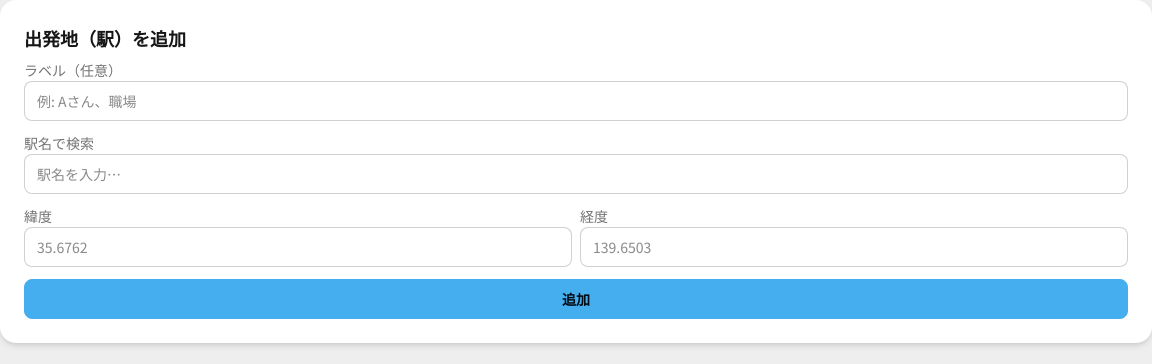
Test case: LocationForm › manual coordinate entry › should reset form after submission
Step 1. Type "自宅" into the field labelled "ラベル（任意）" → (576, 101), box [24, 81, 1128, 121]
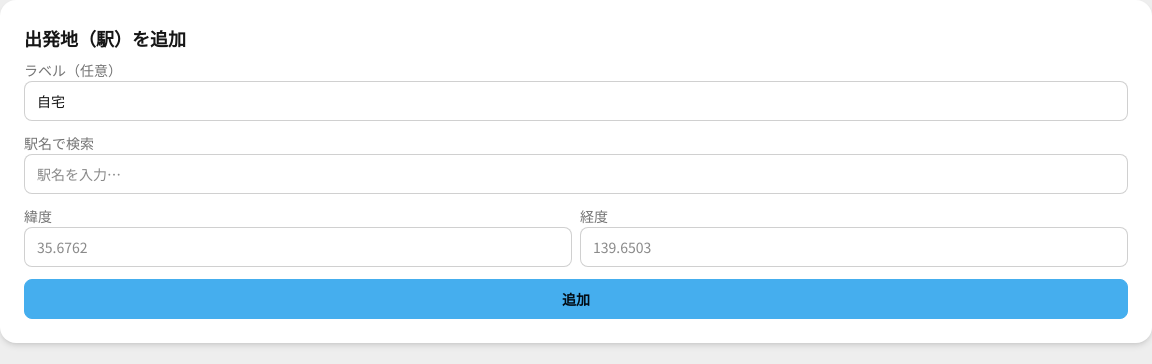
Step 2. Type "35.6812" into the number field labelled "緯度" → (298, 247), box [24, 227, 572, 267]
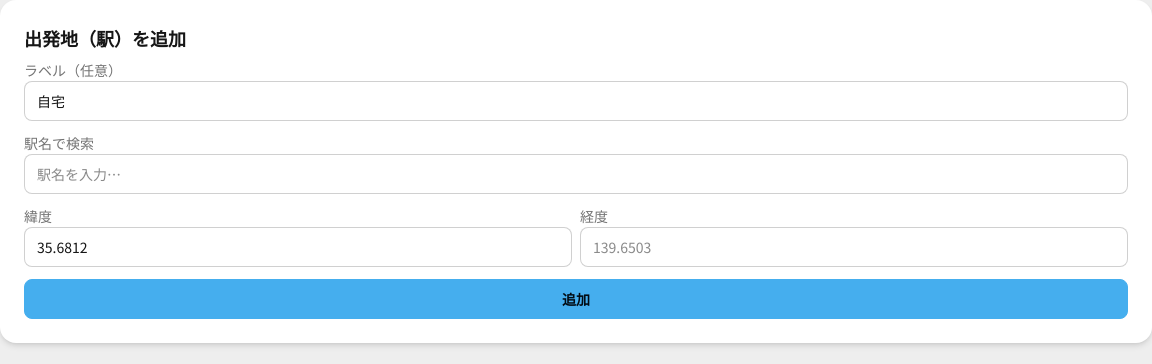
Step 3. Type "139.7671" into the number field labelled "経度" → (854, 247), box [580, 227, 1128, 267]
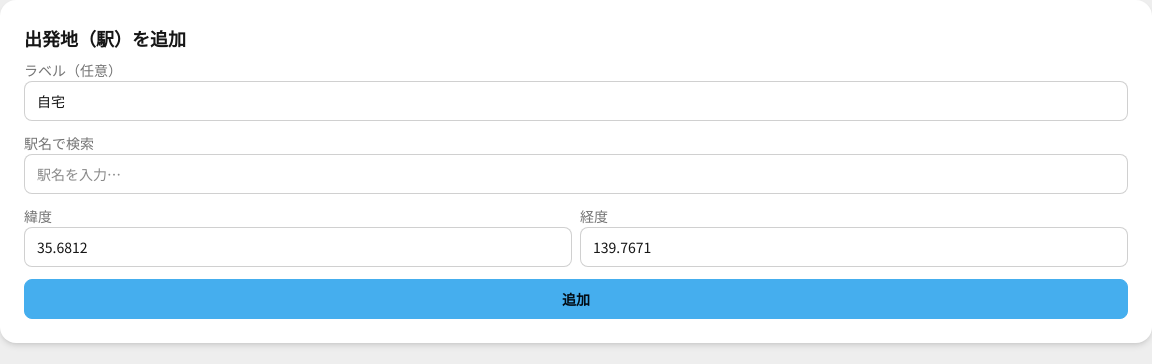
Step 4. Click the button "追加" → (576, 299), box [24, 279, 1128, 319]
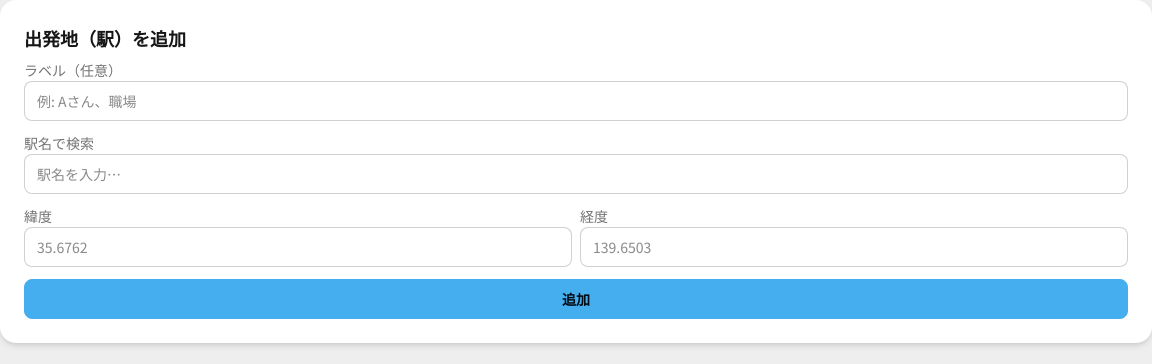
Expected: the field labelled "ラベル（任意）" is empty, [24, 81, 1128, 121]
Expected: the number field labelled "緯度" is not empty, [24, 227, 572, 267]
Expected: the number field labelled "経度" is not empty, [580, 227, 1128, 267]
